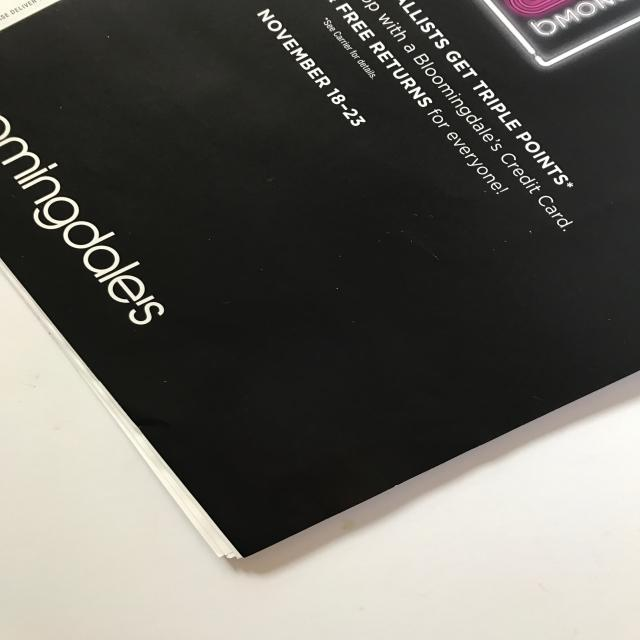paper: (3, 2, 640, 558)
